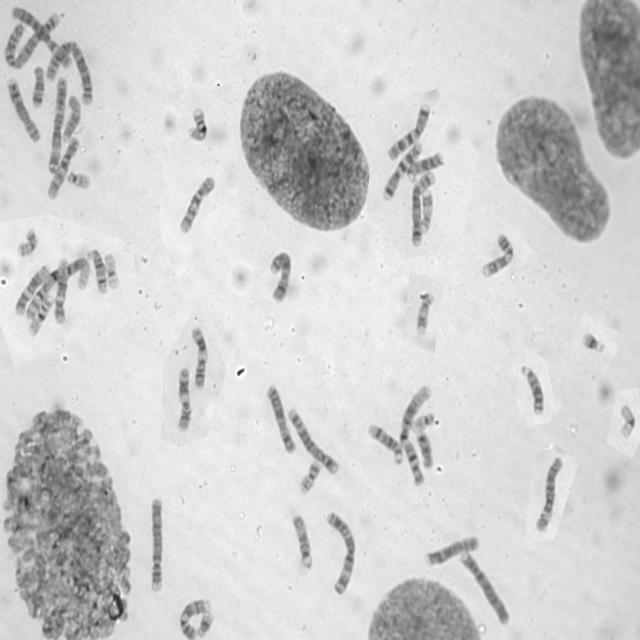A1: (21, 254, 92, 322), (398, 379, 434, 486)
A2: (3, 8, 62, 70), (44, 37, 96, 107)
A3: (323, 506, 357, 596), (46, 74, 69, 176)
B4: (458, 549, 512, 627), (148, 494, 165, 594)
B5: (284, 404, 340, 476), (408, 168, 436, 248)
C10: (176, 172, 216, 235), (45, 133, 80, 201)
C11: (188, 322, 209, 390), (174, 364, 192, 433)
C12: (11, 260, 51, 317), (52, 256, 68, 324)
C6: (11, 4, 75, 70), (533, 453, 564, 532)
C7: (383, 99, 431, 162), (380, 139, 423, 202)
C8: (5, 76, 43, 143), (424, 533, 480, 566)
C9: (478, 230, 516, 279), (177, 595, 212, 639)
D13: (517, 361, 546, 417), (404, 150, 445, 182)
D14: (365, 418, 405, 464), (84, 245, 109, 294)
D15: (289, 511, 314, 572), (60, 90, 82, 144)
E16: (25, 290, 55, 337), (185, 103, 209, 144)
E17: (412, 288, 436, 338), (418, 180, 434, 235)
E18: (414, 426, 434, 470), (29, 62, 46, 109)
F19: (617, 400, 637, 440), (102, 250, 120, 291)
F20: (296, 457, 322, 495), (14, 226, 39, 258)
G21: (580, 328, 606, 354), (194, 608, 216, 637)
G22: (64, 167, 92, 190), (412, 409, 436, 433)
X: (264, 382, 298, 456), (267, 248, 292, 304)
